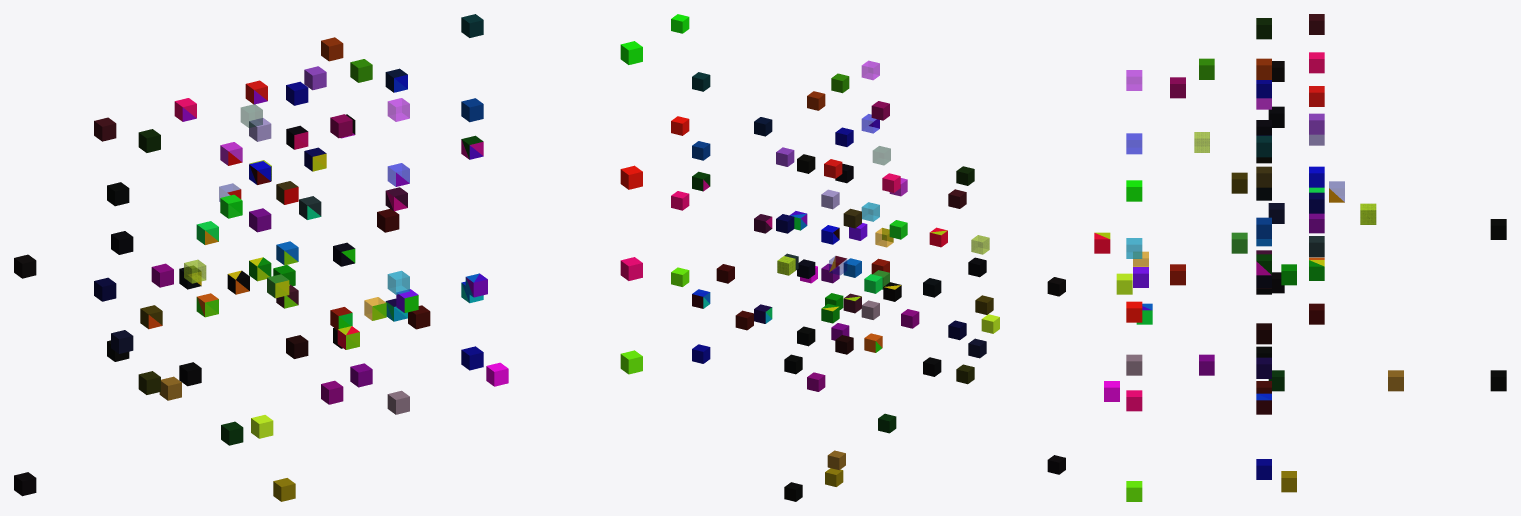
File: testcubemodel9.obj
3 renders of one model, left to right at view 1: azimuth 30°, elevation 25°; view 2: azimuth 150°, elevation 25°; view 3: azimuth 270°, elevation 25°, orthographic. The views are drawn at different scales.
Size of the model in its own units: 7737 by 6164 by 5198.
Materials: 124 (2 with a texture image).
